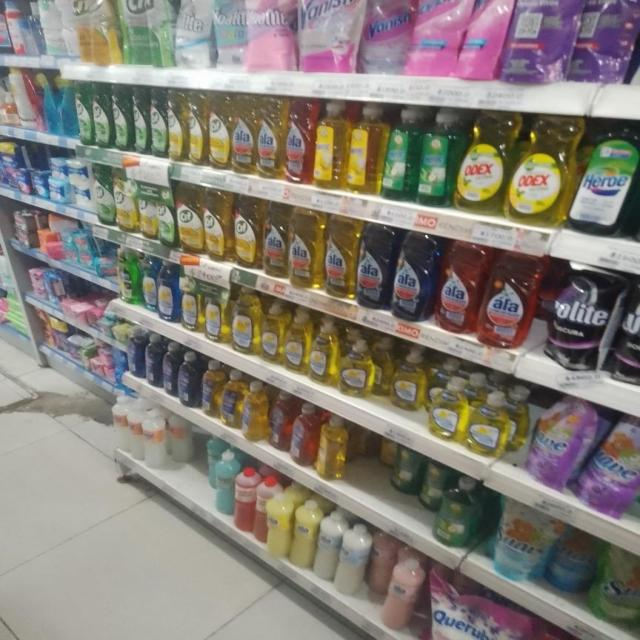ala_conc_amarillo: (289, 207, 322, 290), (324, 214, 355, 300), (257, 95, 284, 180), (263, 201, 287, 280), (232, 95, 255, 175)
ala_conc_azul: (394, 230, 436, 323), (356, 222, 392, 312)
ala_conc_rojo: (482, 248, 537, 350), (438, 239, 480, 335), (285, 97, 312, 186)
ala_crem_amarillo: (267, 483, 291, 561), (292, 495, 315, 571)
ala_crem_blanco: (338, 520, 368, 600), (316, 509, 338, 585)
cif_conc_bot_amarilla: (204, 186, 231, 262), (234, 194, 261, 269), (177, 182, 202, 256), (208, 93, 230, 171)
heroe: (573, 120, 638, 237), (417, 106, 455, 208), (382, 106, 417, 202)
magistral_con_amarillo: (467, 390, 509, 458), (429, 376, 466, 442), (391, 346, 425, 413), (339, 338, 373, 400), (309, 317, 337, 387), (232, 285, 259, 356), (284, 308, 308, 374), (204, 278, 226, 344), (261, 300, 283, 365), (181, 269, 202, 333)
magistral_con_azul: (158, 263, 178, 324)
odex: (458, 110, 507, 213)
